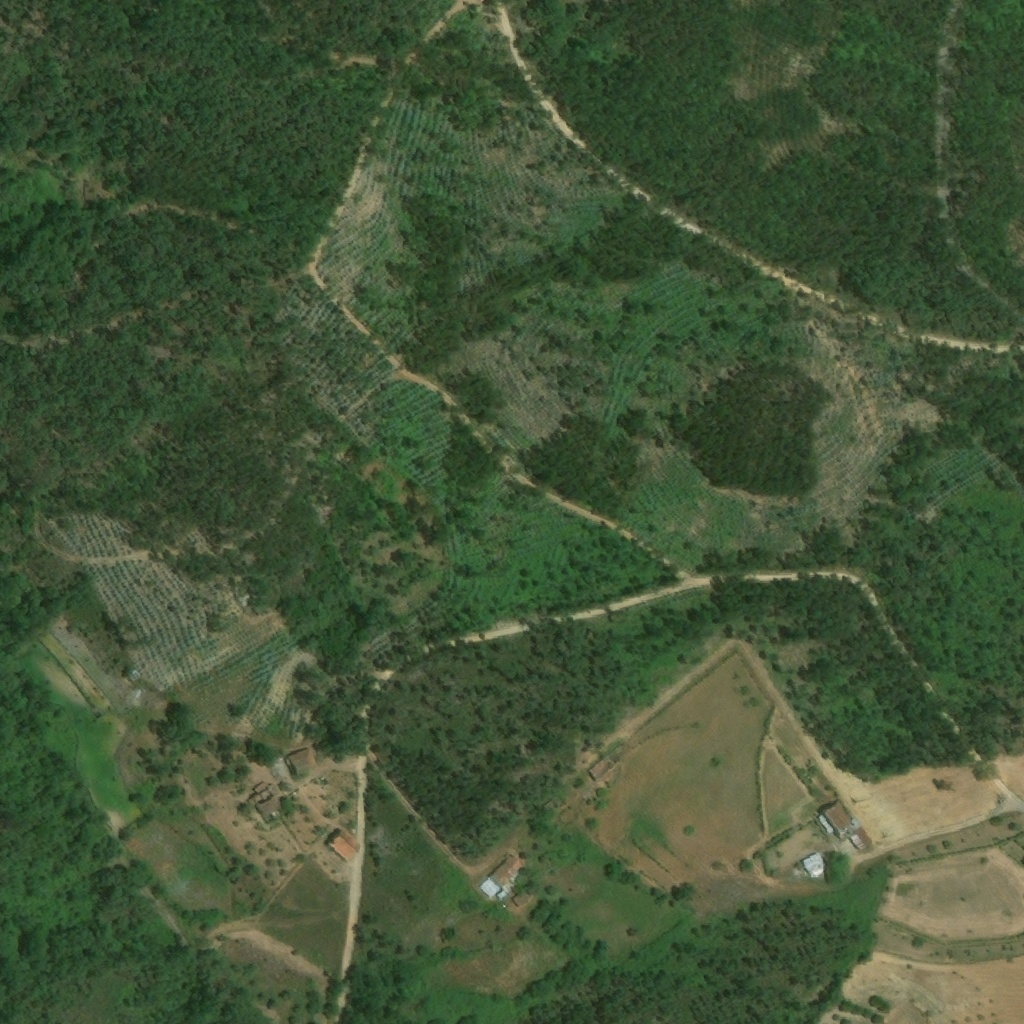0 no-damage: (477, 853, 526, 901), (820, 801, 855, 843), (250, 781, 288, 819), (285, 747, 322, 777), (327, 827, 361, 859), (589, 753, 616, 782), (850, 826, 875, 853), (508, 892, 530, 908)
